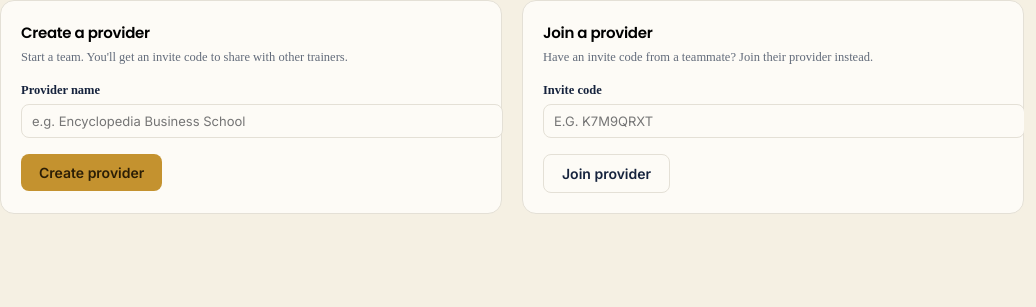
TeamTab — not a member › creates a provider and refetches
Type "Acme Training" into the field with placeholder "e.g. Encyclopedia Business School". click: (262, 121)
box: [21,104,503,138]
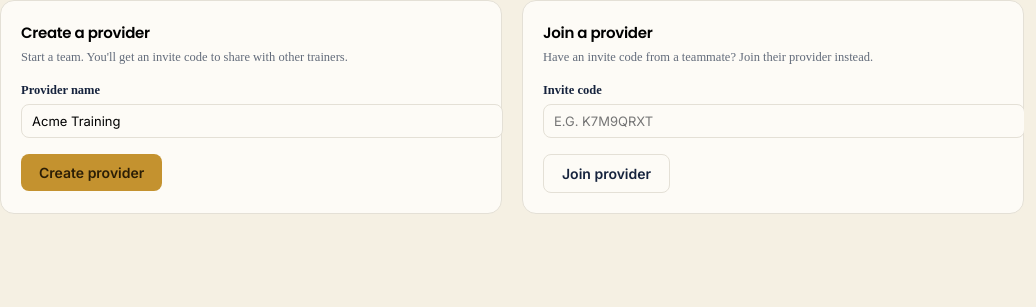
Click the button "Create provider". click: click(92, 172)
box: [21,154,162,191]
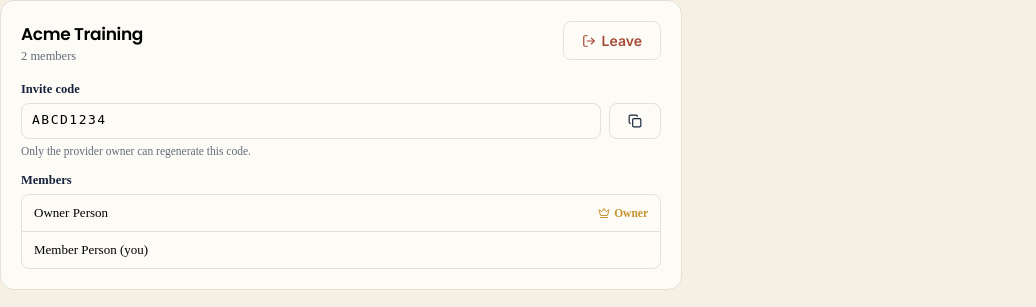
Check: the text "Acme Training" is shown, box [21,21,143,47]
